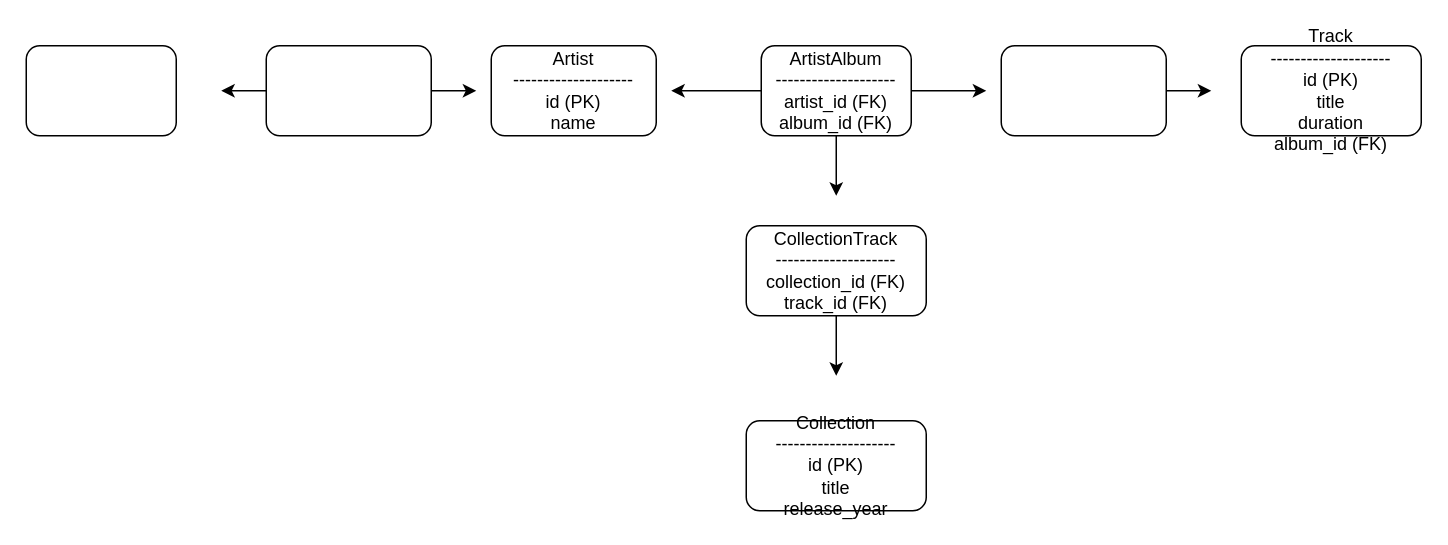
Image size: 1448x545. Some labels were removed from this diagram. The centre of each missing label's shape, as x and y in pixels:
Album -------------------- id (PK) title release_year: point 1083,90
ArtistGenre -------------------- artist_id (FK) genre_id (FK): point 348,90
Genre -------------------- id (PK) name: point 100,90
